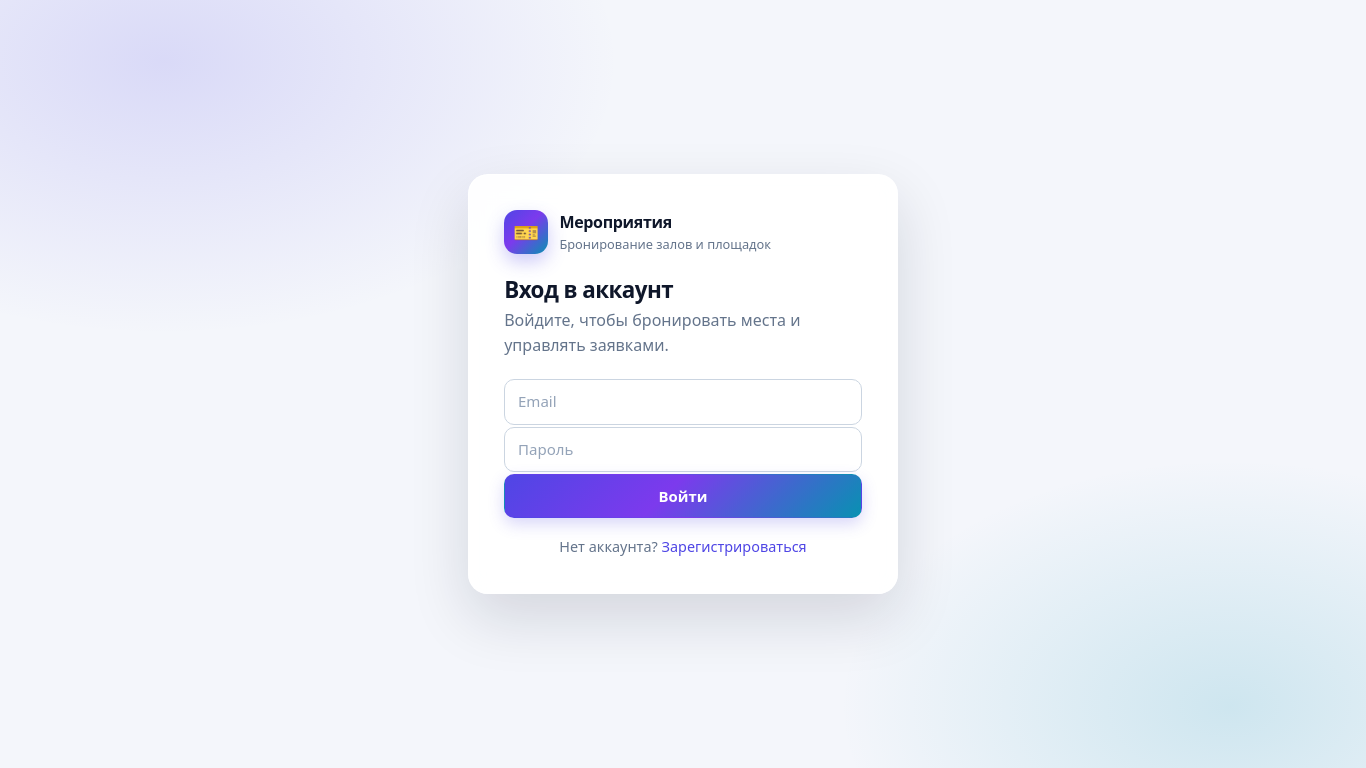
it: Login › показывает сообщение об ошибке входа
Type "client@example.com" into the field with placeholder "Email". click: x=683, y=402
box: [504,380,862,425]
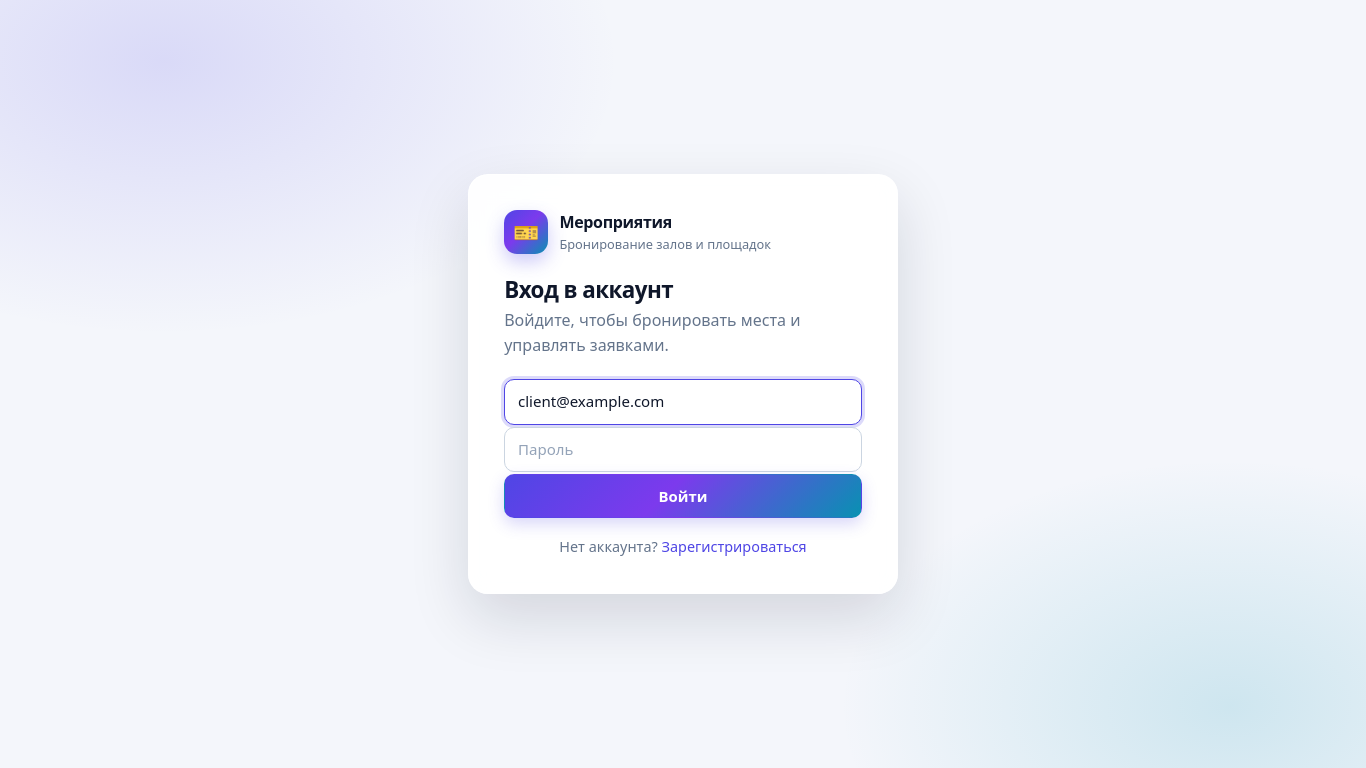
Type "ClientPass123!" into the password field with placeholder "Пароль". click: x=683, y=450
box: [504,427,862,472]
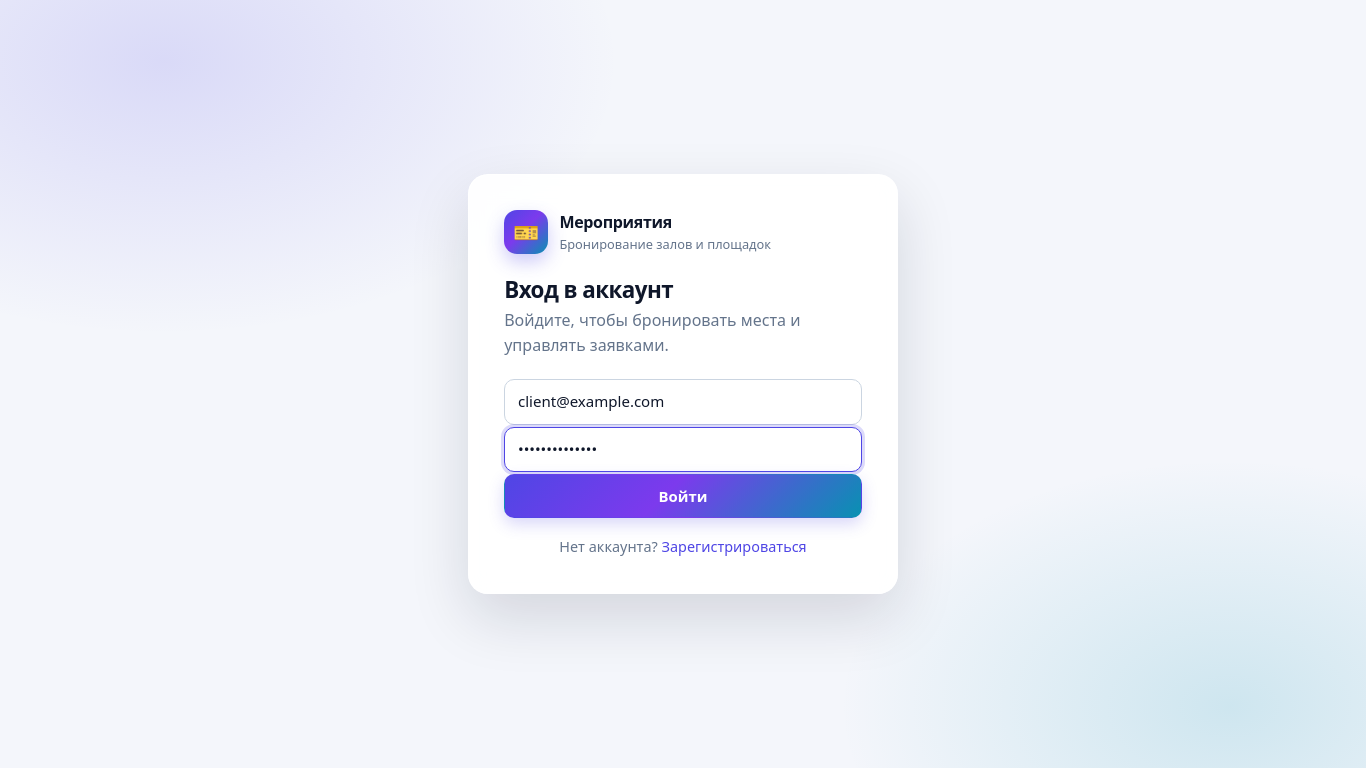
Click the button "Войти". click: x=683, y=496
box: [504,474,862,518]
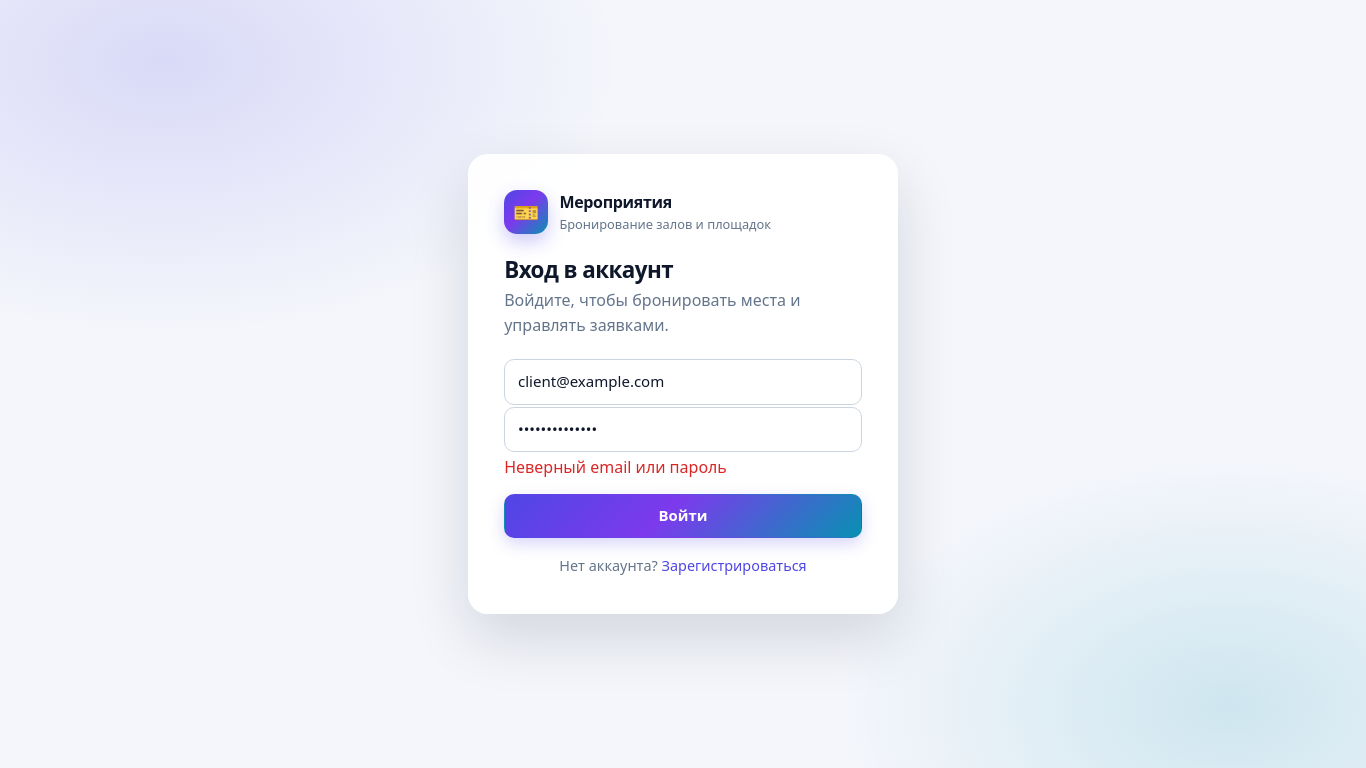
Now the text "Неверный email или пароль" is shown, box [504,456,727,478]
